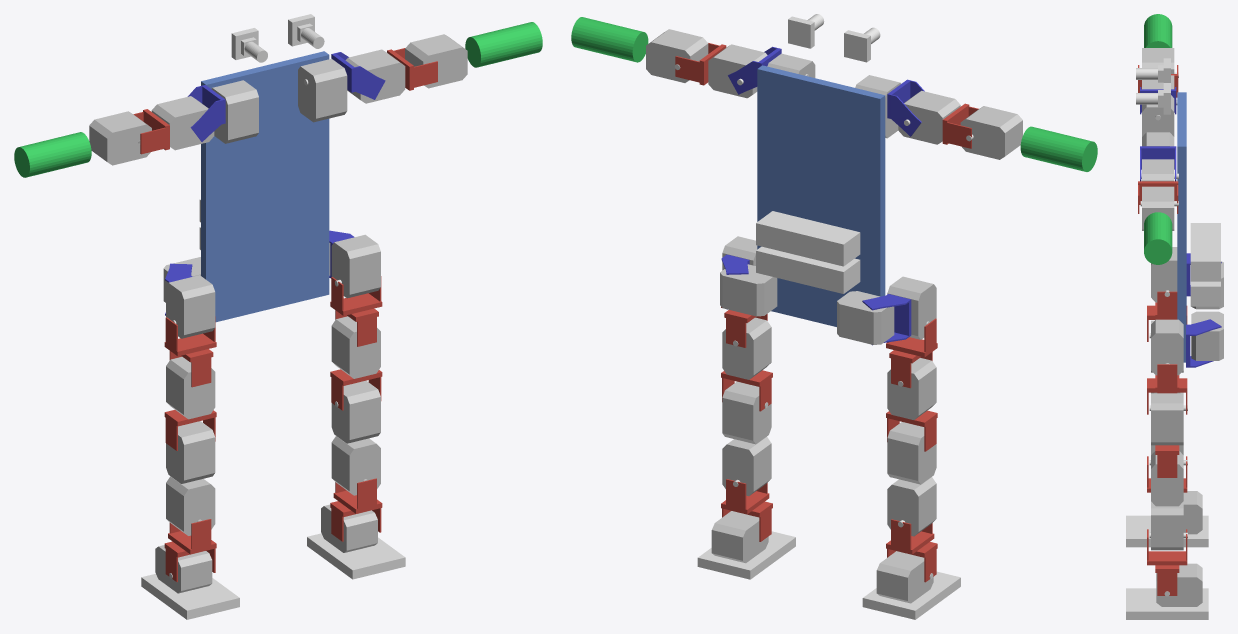
Rendered from full_robot_mx28(v3).dae.
3 views of the same model, side by side, from view 1: azimuth 30°, elevation 25°; view 2: azimuth 150°, elevation 25°; view 3: azimuth 270°, elevation 25° (orthographic). The views are drawn at different scales.
Parts seen in each view (by area): view 1: Central, left_arm_servo1, right_leg_servo2, left_leg_servo2, left_leg_servo4, right_leg_servo4, right_arm_servo3, right_hand, left_hand, right_foot, left_foot, right_leg_servo5 (+23 smaller); view 2: Central, battery1, battery2, right_leg_servo4, left_leg_servo4, right_leg_servo1, right_arm_servo3, right_hand, left_hand, left_leg_servo1, left_leg_servo5, right_leg_servo5 (+26 smaller); view 3: Central, battery1, left_foot, left_leg_servo3, left_leg_servo2, left_leg_servo5, left_hand, left_leg_servo6, left_leg_servo1, right_foot, left_leg_servo4, left_arm_servo3 (+26 smaller).
Boxes of the visible parts, bbox=[...] form: Central: bbox=[201, 51, 329, 322]; left_arm_servo1: bbox=[298, 58, 347, 122]; right_leg_servo2: bbox=[166, 275, 215, 338]; left_leg_servo2: bbox=[331, 234, 380, 298]; left_leg_servo4: bbox=[331, 380, 380, 443]; right_leg_servo4: bbox=[166, 421, 215, 483]; right_arm_servo3: bbox=[89, 111, 151, 165]; right_hand: bbox=[14, 132, 91, 177]; left_hand: bbox=[465, 22, 542, 67]; right_foot: bbox=[141, 573, 239, 619]; left_foot: bbox=[307, 533, 405, 579]; right_leg_servo5: bbox=[166, 476, 215, 535]; Central: bbox=[757, 65, 885, 326]; battery1: bbox=[756, 211, 860, 266]; battery2: bbox=[756, 246, 860, 293]; right_leg_servo4: bbox=[887, 422, 936, 484]; left_leg_servo4: bbox=[722, 381, 771, 444]; right_leg_servo1: bbox=[837, 291, 894, 344]; right_arm_servo3: bbox=[960, 106, 1022, 159]; right_hand: bbox=[1020, 126, 1097, 171]; left_hand: bbox=[571, 17, 648, 62]; left_leg_servo1: bbox=[720, 264, 777, 316]; left_leg_servo5: bbox=[722, 437, 771, 496]; right_leg_servo5: bbox=[887, 477, 936, 536]; Central: bbox=[1177, 92, 1186, 362]; battery1: bbox=[1190, 223, 1220, 281]; left_foot: bbox=[1126, 588, 1208, 619]; left_leg_servo3: bbox=[1151, 393, 1183, 445]; left_leg_servo2: bbox=[1151, 319, 1183, 375]; left_leg_servo5: bbox=[1151, 501, 1183, 550]; left_hand: bbox=[1144, 212, 1172, 264]; left_leg_servo6: bbox=[1156, 563, 1202, 606]; left_leg_servo1: bbox=[1191, 311, 1223, 360]; right_foot: bbox=[1126, 515, 1208, 547]; left_leg_servo4: bbox=[1151, 451, 1183, 506]; left_arm_servo3: bbox=[1142, 186, 1174, 230].
Size of the model in its own units: 5.82 by 1.07 by 5.98.
